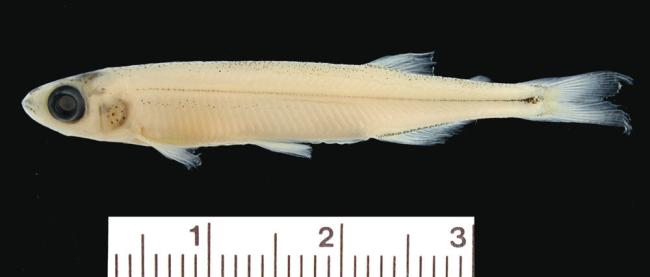fish: (20, 50, 633, 170)
